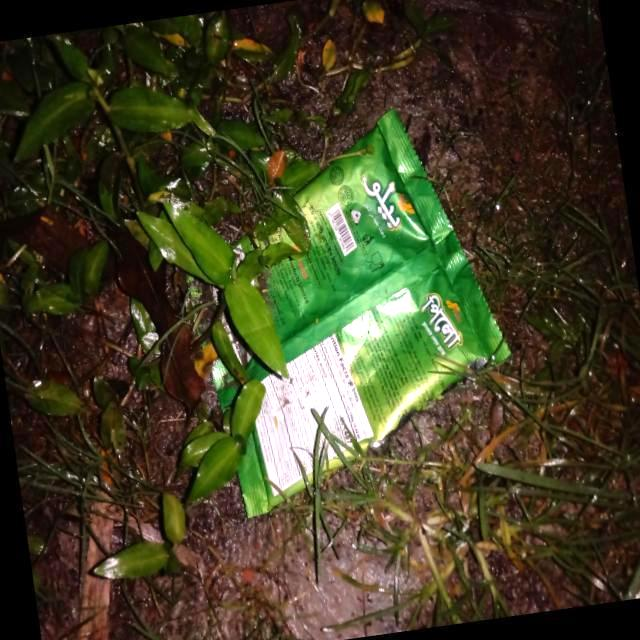packet: (175, 138, 498, 471)
